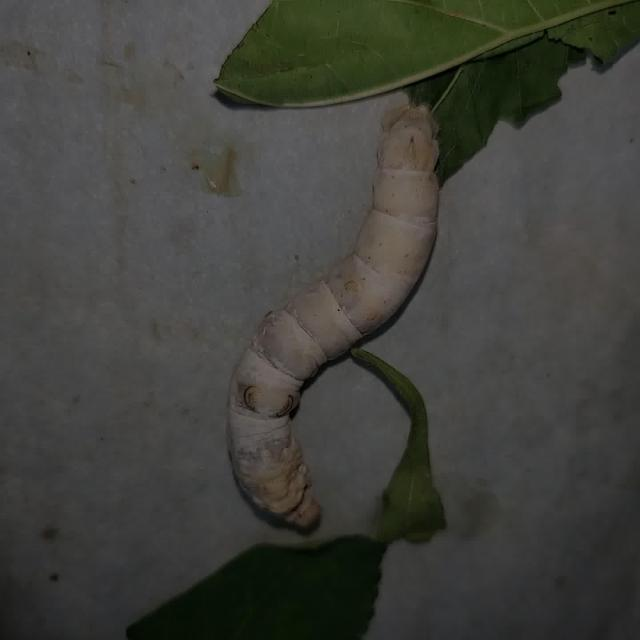Grasserie: (212, 85, 451, 554)
